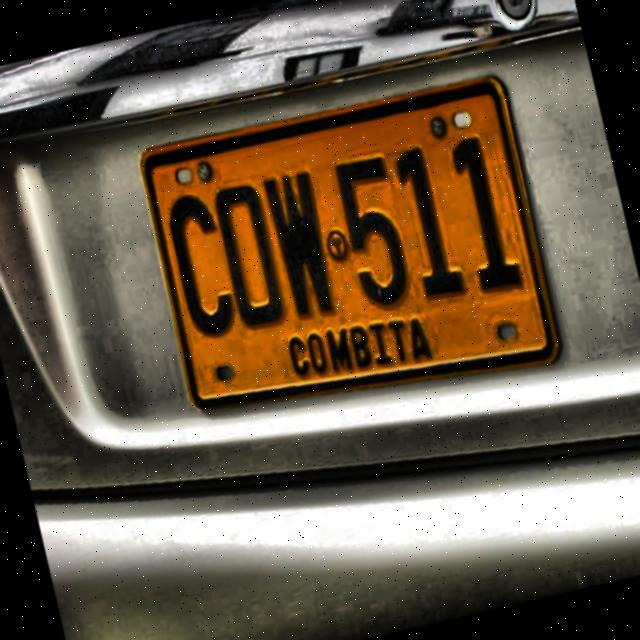plate: (142, 84, 555, 403)
